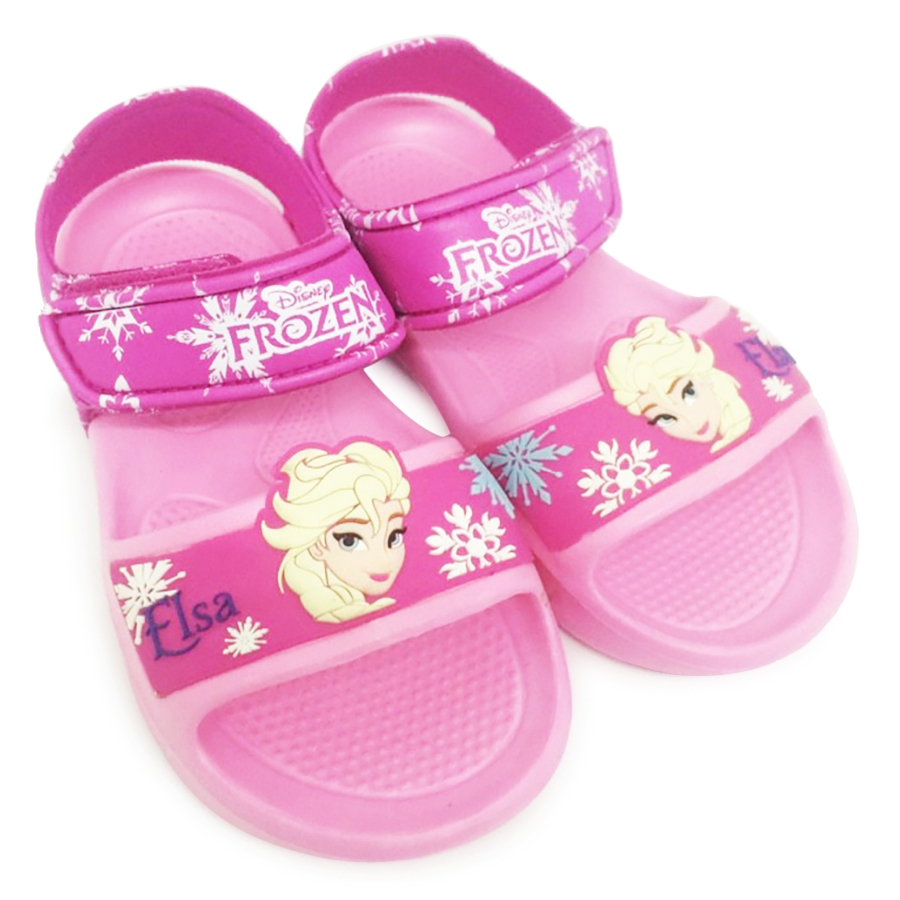Disney: (255, 276, 345, 314), (476, 200, 561, 238)
